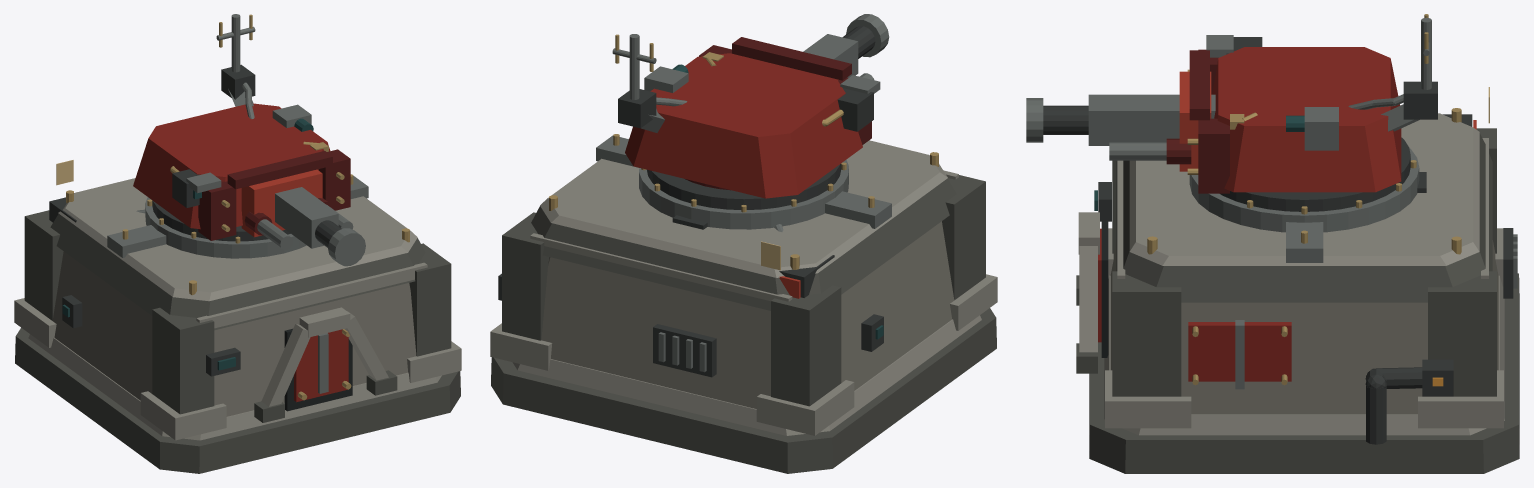
Rendered from martian_heavy_weapon_bunker_v03_blender_export.glb.
3 renders of one model, left to right at view 1: azimuth 30°, elevation 25°; view 2: azimuth 150°, elevation 25°; view 3: azimuth 270°, elevation 25°, orthographic. The views are drawn at different scales.
Visible parts, largest first — view 1: 03_monolithic_bunker_mass, 01_foundation_granular_ferrocrete, 05_top_concrete_skin, 16_martian_red_turret_armor, 04_upper_blast_cap, 06_corner_armor_buttress_WS, 02_lower_blast_raft, 06_corner_armor_buttress_ES, 06_corner_armor_buttress_WN, 53_south_slab_anchor_strip, 13_ring_lower_bearing_seat, 09_steel_service_hatch (+26 smaller); view 2: 03_monolithic_bunker_mass, 16_martian_red_turret_armor, 01_foundation_granular_ferrocrete, 05_top_concrete_skin, 04_upper_blast_cap, 02_lower_blast_raft, 06_corner_armor_buttress_WN, 06_corner_armor_buttress_EN, 06_corner_armor_buttress_WS, 13_ring_lower_bearing_seat, 14_ring_open_bearing_race, 07_corner_buttress_foot_WN (+17 smaller); view 3: 05_top_concrete_skin, 16_martian_red_turret_armor, 03_monolithic_bunker_mass, 01_foundation_granular_ferrocrete, 04_upper_blast_cap, 06_corner_armor_buttress_ES, 06_corner_armor_buttress_EN, 02_lower_blast_raft, 55_east_wall_controller_armor, 13_ring_lower_bearing_seat, 21_gun_tube_outer_shroud, 07_corner_buttress_foot_ES (+27 smaller).
Part boxes in pixels (left/top/right/bottom): 03_monolithic_bunker_mass: left=52, top=251, right=416, bottom=416; 01_foundation_granular_ferrocrete: left=15, top=327, right=460, bottom=473; 05_top_concrete_skin: left=58, top=178, right=417, bottom=301; 16_martian_red_turret_armor: left=133, top=103, right=330, bottom=229; 04_upper_blast_cap: left=50, top=214, right=425, bottom=330; 06_corner_armor_buttress_WS: left=152, top=307, right=214, bottom=414; 02_lower_blast_raft: left=28, top=334, right=441, bottom=440; 06_corner_armor_buttress_ES: left=409, top=243, right=451, bottom=356; 06_corner_armor_buttress_WN: left=24, top=210, right=63, bottom=320; 53_south_slab_anchor_strip: left=196, top=262, right=427, bottom=328; 13_ring_lower_bearing_seat: left=145, top=197, right=306, bottom=258; 09_steel_service_hatch: left=294, top=329, right=348, bottom=402; 03_monolithic_bunker_mass: left=541, top=221, right=954, bottom=408; 16_martian_red_turret_armor: left=625, top=53, right=862, bottom=198; 01_foundation_granular_ferrocrete: left=491, top=308, right=996, bottom=473; 05_top_concrete_skin: left=540, top=140, right=947, bottom=277; 04_upper_blast_cap: left=531, top=178, right=956, bottom=310; 02_lower_blast_raft: left=512, top=315, right=981, bottom=435; 06_corner_armor_buttress_WN: left=771, top=285, right=841, bottom=406; 06_corner_armor_buttress_EN: left=502, top=212, right=549, bottom=340; 06_corner_armor_buttress_WS: left=942, top=175, right=985, bottom=300; 13_ring_lower_bearing_seat: left=639, top=159, right=848, bottom=229; 14_ring_open_bearing_race: left=647, top=163, right=841, bottom=209; 07_corner_buttress_foot_WN: left=756, top=380, right=854, bottom=435; 05_top_concrete_skin: left=1129, top=113, right=1479, bottom=265; 16_martian_red_turret_armor: left=1212, top=47, right=1401, bottom=192; 03_monolithic_bunker_mass: left=1110, top=239, right=1498, bottom=414; 01_foundation_granular_ferrocrete: left=1089, top=273, right=1519, bottom=473; 04_upper_blast_cap: left=1116, top=133, right=1492, bottom=302; 06_corner_armor_buttress_ES: left=1112, top=271, right=1181, bottom=396; 06_corner_armor_buttress_EN: left=1428, top=271, right=1496, bottom=396; 02_lower_blast_raft: left=1104, top=275, right=1504, bottom=435; 55_east_wall_controller_armor: left=1188, top=322, right=1291, bottom=381; 13_ring_lower_bearing_seat: left=1189, top=148, right=1419, bottom=232; 21_gun_tube_outer_shroud: left=1088, top=94, right=1215, bottom=145; 07_corner_buttress_foot_ES: left=1105, top=370, right=1191, bottom=428.
Bounding box in the file's own units: 3.08 × 3.01 × 3.44.
